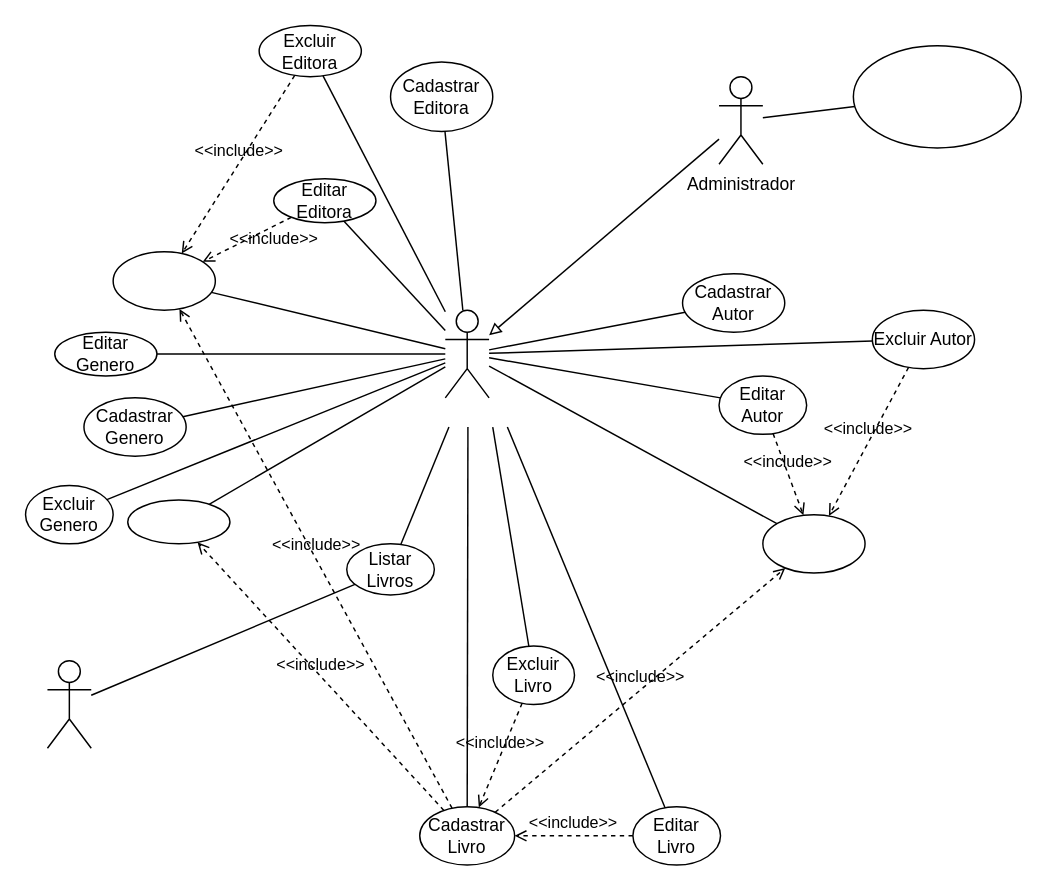
This 1047x891 diagram has some shape labels left out. The centre of each missing label's shape, as x and y in pixels:
Bibliotecario: pixel 466 353
CRUD conta de usuario: pixel 936 96
Listar Autores: pixel 813 543
Listar Editoras: pixel 163 280
Listar Generos: pixel 178 521
Usuario: pixel 68 703
